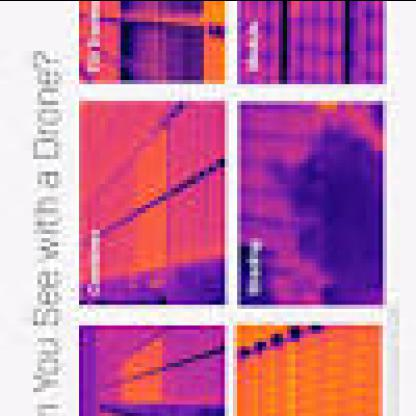Defects: (129, 124, 171, 200), (124, 337, 162, 399), (128, 200, 166, 262)
